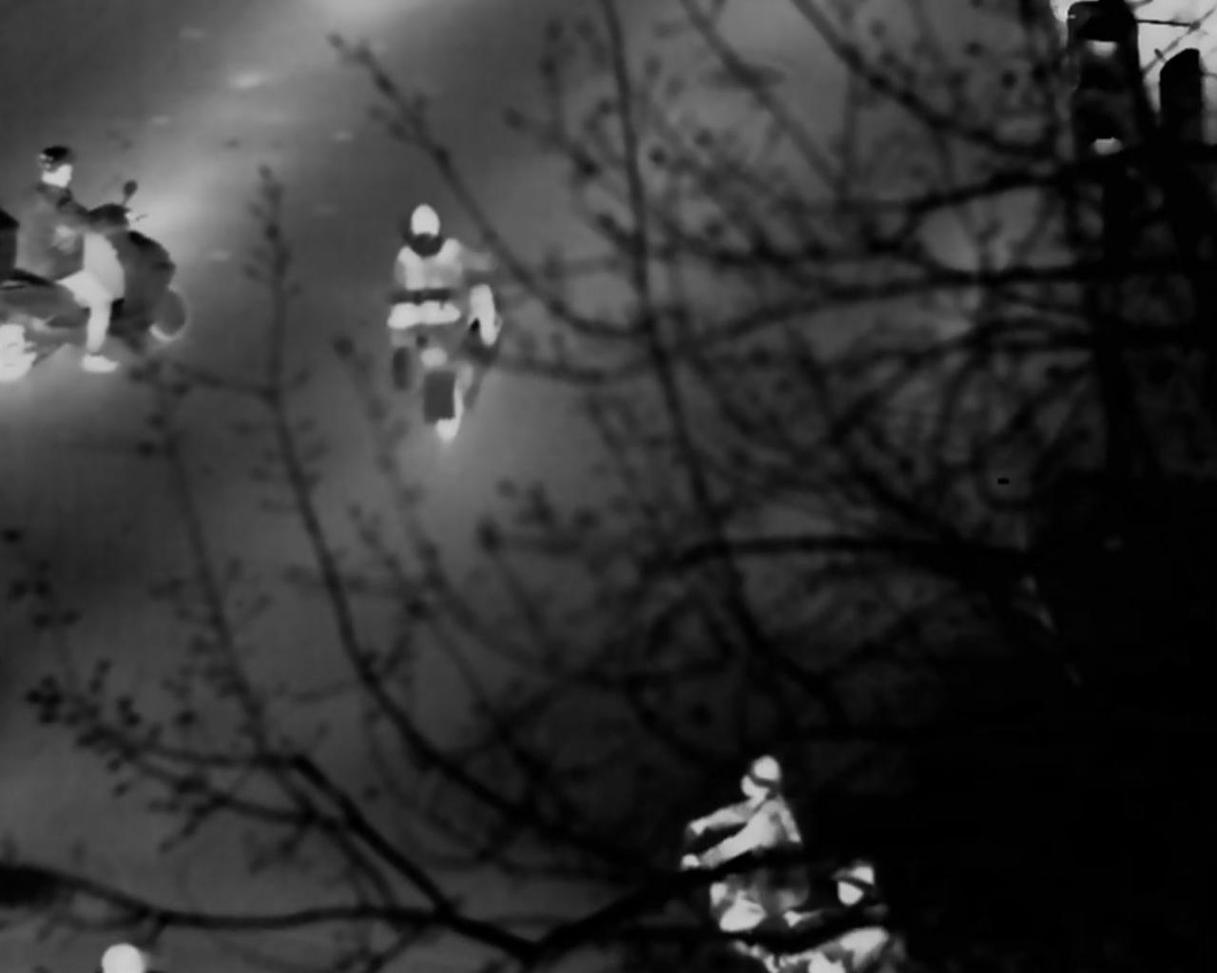person: (23, 140, 131, 366), (402, 201, 501, 395), (707, 756, 812, 922), (813, 865, 911, 961)
